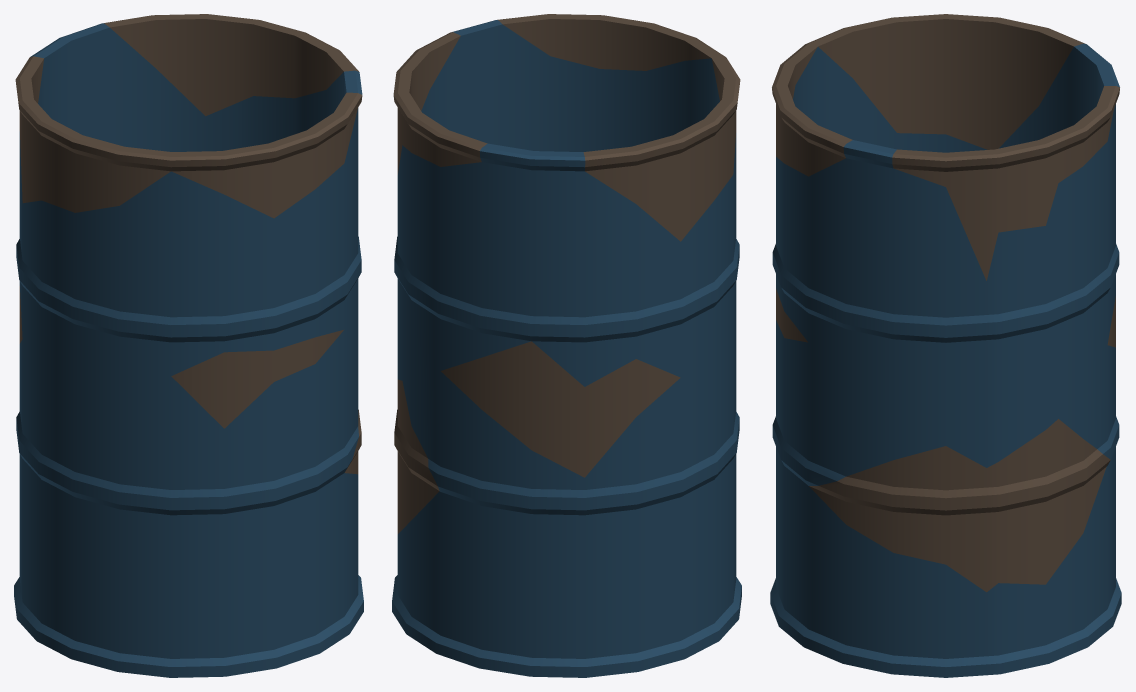
File: Barrel.gltf
The picture shows the model from 3 angles, left to right: view 1: azimuth 30°, elevation 25°; view 2: azimuth 150°, elevation 25°; view 3: azimuth 270°, elevation 25°; orthographic projection.
Parts seen in each view (by area): view 1: Barrel; view 2: Barrel; view 3: Barrel.
Part boxes in pixels (left/top/right/bottom): Barrel: left=14, top=14, right=363, bottom=677; Barrel: left=392, top=14, right=741, bottom=677; Barrel: left=770, top=14, right=1121, bottom=677.
Bounding box in the file's own units: 0.7041 × 1.14 × 0.7041.
Materials: 1 (1 with a texture image).
